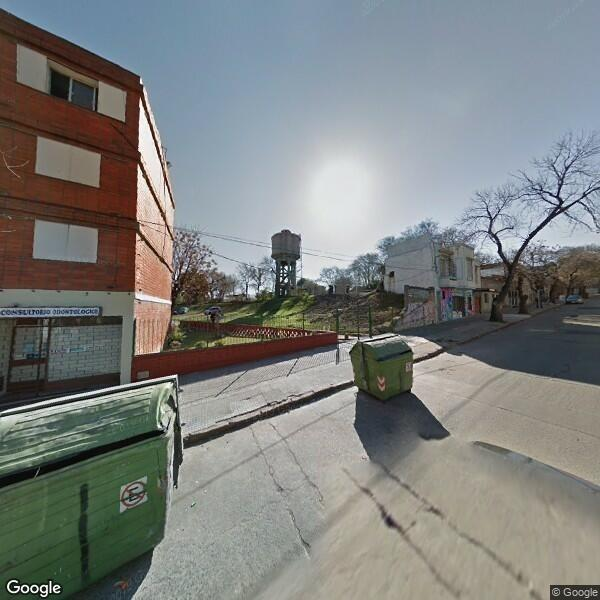Trash: (346, 331, 414, 399)
